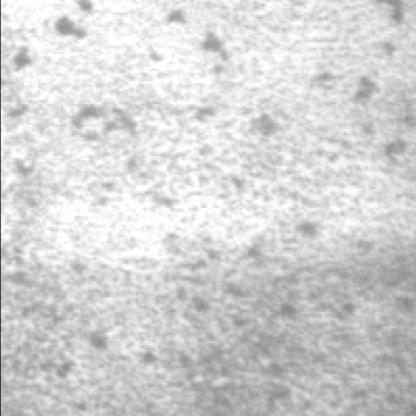pitted_surface: (33, 8, 404, 256), (14, 208, 416, 381)
